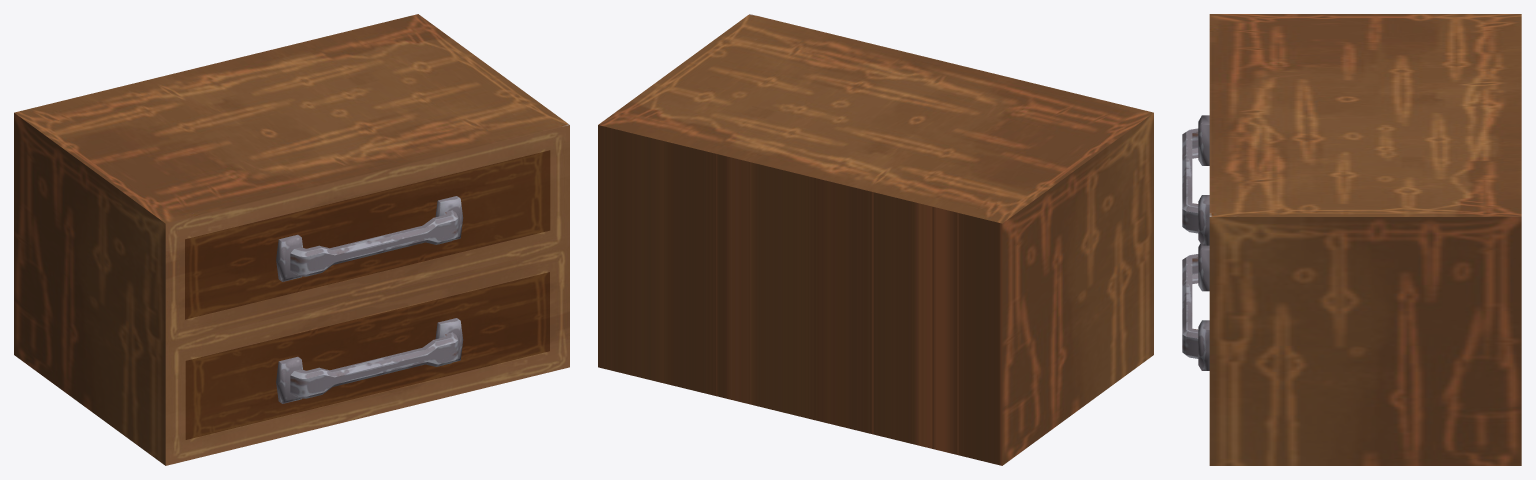
The model's file is Workbench_Drawers.gltf.
3 renders of one model, left to right at view 1: azimuth 30°, elevation 25°; view 2: azimuth 150°, elevation 25°; view 3: azimuth 270°, elevation 25°, orthographic. The views are drawn at different scales.
Parts seen in each view (by area): view 1: Workbench_Drawers; view 2: Workbench_Drawers; view 3: Workbench_Drawers.
Part boxes in pixels (left/top/right/bottom): Workbench_Drawers: left=14, top=14, right=569, bottom=465; Workbench_Drawers: left=598, top=14, right=1153, bottom=465; Workbench_Drawers: left=1182, top=14, right=1521, bottom=465.
Bounding box in the file's own units: 0.4231 × 0.2423 × 0.299.
Materials: 2 (2 with a texture image).
